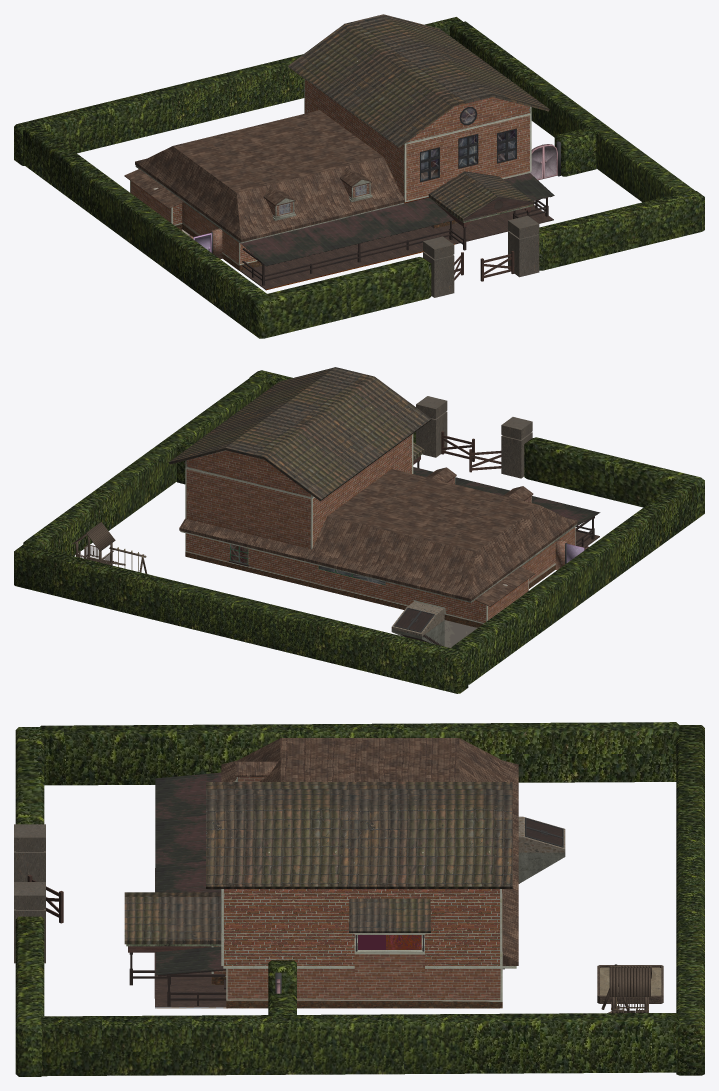
File: undestroyed_house.glb
The picture shows the model from 3 angles, top to bottom: view 1: azimuth 30°, elevation 25°; view 2: azimuth 150°, elevation 25°; view 3: azimuth 270°, elevation 25°; orthographic projection. The views are drawn at different scales.
Visible parts, largest first — view 1: Arb-col.001, Techo-col.001, Casa-col.001, Lamina-col, 1st_floor-col, Pilares-col.001, Ventanas casa-col, Madera-col, Puertas Patio-col.001, V3.001-col; view 2: Arb-col.001, Techo-col.001, Casa-col.001, Pilares-col.001, Playground -col.001, Lamina-col, Zotano-col.001, Pared zotano-col, Puertas Patio-col.001; view 3: Arb-col.001, Techo-col.001, Casa-col.001, Lamina-col, Balcon-col.001, Pilares-col.001, Playground -col.001, 1st_floor-col, Zotano-col.001, Madera-col, Planta 2-col.
Boxes of the visible parts, left/top/right/bottom form: Arb-col.001: left=14, top=17, right=704, bottom=338; Techo-col.001: left=124, top=14, right=549, bottom=243; Casa-col.001: left=130, top=79, right=531, bottom=270; Lamina-col: left=241, top=173, right=554, bottom=265; 1st_floor-col: left=240, top=161, right=553, bottom=290; Pilares-col.001: left=423, top=215, right=539, bottom=297; Ventanas casa-col: left=420, top=107, right=516, bottom=182; Madera-col: left=242, top=196, right=552, bottom=285; Puertas Patio-col.001: left=189, top=141, right=560, bottom=258; V3.001-col: left=480, top=251, right=514, bottom=281; Arb-col.001: left=14, top=370, right=704, bottom=693; Techo-col.001: left=169, top=367, right=577, bottom=606; Casa-col.001: left=179, top=434, right=575, bottom=627; Pilares-col.001: left=416, top=396, right=532, bottom=478; Playground -col.001: left=72, top=522, right=147, bottom=573; Lamina-col: left=413, top=467, right=600, bottom=525; Zotano-col.001: left=391, top=601, right=444, bottom=646; Pared zotano-col: left=444, top=620, right=477, bottom=648; Puertas Patio-col.001: left=555, top=539, right=588, bottom=570; Arb-col.001: left=15, top=722, right=704, bottom=1076; Techo-col.001: left=124, top=738, right=518, bottom=944; Casa-col.001: left=211, top=874, right=518, bottom=1008; Lamina-col: left=155, top=772, right=225, bottom=975; Balcon-col.001: left=349, top=898, right=430, bottom=972; Pilares-col.001: left=14, top=824, right=45, bottom=963; Playground -col.001: left=597, top=964, right=663, bottom=1013; 1st_floor-col: left=154, top=868, right=499, bottom=1008; Zotano-col.001: left=518, top=816, right=565, bottom=883; Madera-col: left=128, top=946, right=226, bottom=1006; Planta 2-col: left=358, top=935, right=421, bottom=949.
Size of the model in its own units: 50.02 by 16.24 by 48.03.
Materials: 54 (54 with a texture image).
